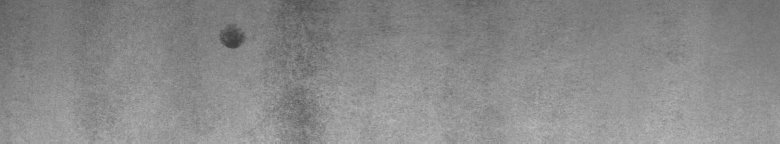fi: (220, 28, 248, 52)
